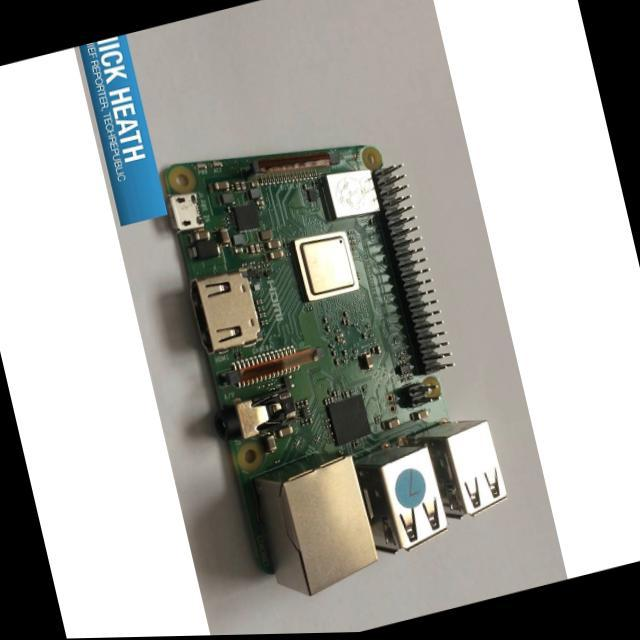Raspberry Pi 3 B-: (163, 147, 507, 596)
